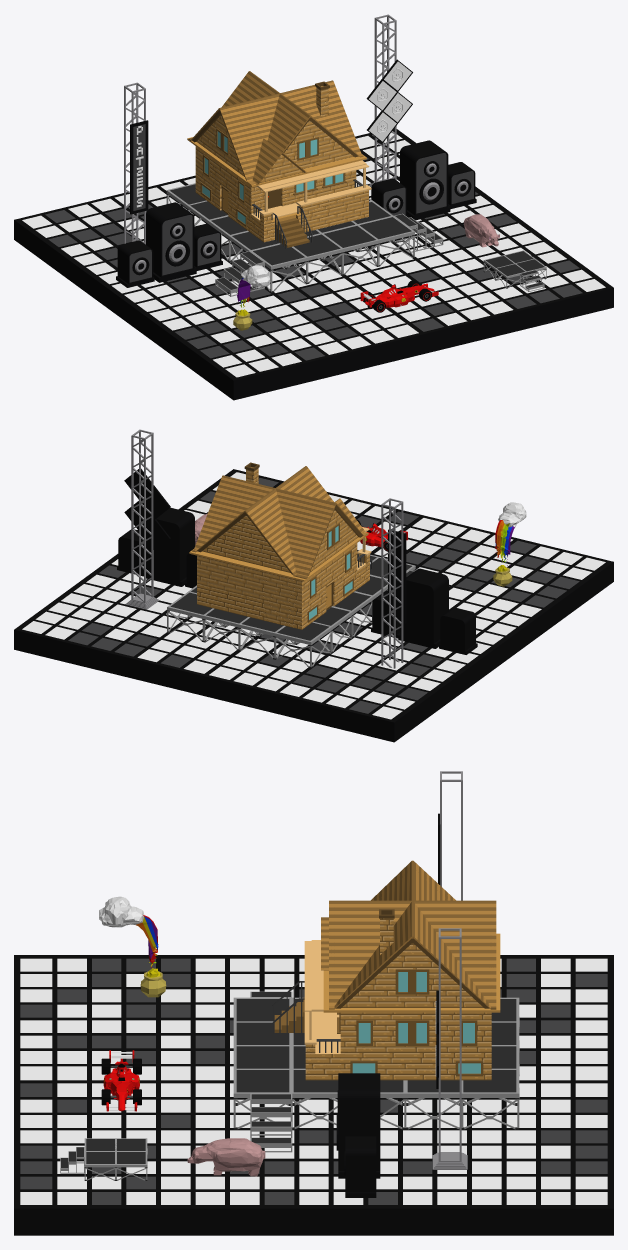
The picture shows the model from 3 angles, top to bottom: view 1: azimuth 30°, elevation 25°; view 2: azimuth 150°, elevation 25°; view 3: azimuth 270°, elevation 25°; orthographic projection. The views are drawn at different scales.
Parts seen in each view (by area): view 1: Cube.008, Cube.508, VEHICLES_FORMULA_1, OBJRANDOM_RAINBOW, ANIMAL_HIPOPOTAMO; view 2: Cube.008, Cube.508, OBJRANDOM_RAINBOW, VEHICLES_FORMULA_1; view 3: Cube.008, Cube.508, OBJRANDOM_RAINBOW, ANIMAL_HIPOPOTAMO, VEHICLES_FORMULA_1.
Part boxes in pixels (left/top/right/bottom): Cube.008: left=14, top=14, right=613, bottom=400; Cube.508: left=187, top=71, right=371, bottom=248; VEHICLES_FORMULA_1: left=360, top=280, right=438, bottom=312; OBJRANDOM_RAINBOW: left=233, top=265, right=270, bottom=330; ANIMAL_HIPOPOTAMO: left=463, top=214, right=499, bottom=247; Cube.008: left=14, top=429, right=613, bottom=742; Cube.508: left=189, top=462, right=372, bottom=629; OBJRANDOM_RAINBOW: left=493, top=502, right=526, bottom=586; VEHICLES_FORMULA_1: left=356, top=519, right=407, bottom=551; Cube.008: left=14, top=771, right=613, bottom=1235; Cube.508: left=272, top=860, right=500, bottom=1080; OBJRANDOM_RAINBOW: left=99, top=896, right=166, bottom=997; ANIMAL_HIPOPOTAMO: left=187, top=1138, right=265, bottom=1176; VEHICLES_FORMULA_1: left=101, top=1050, right=141, bottom=1111.
Size of the model in its own units: 4000 by 1980 by 4000.
Materials: 43 (2 with a texture image).
